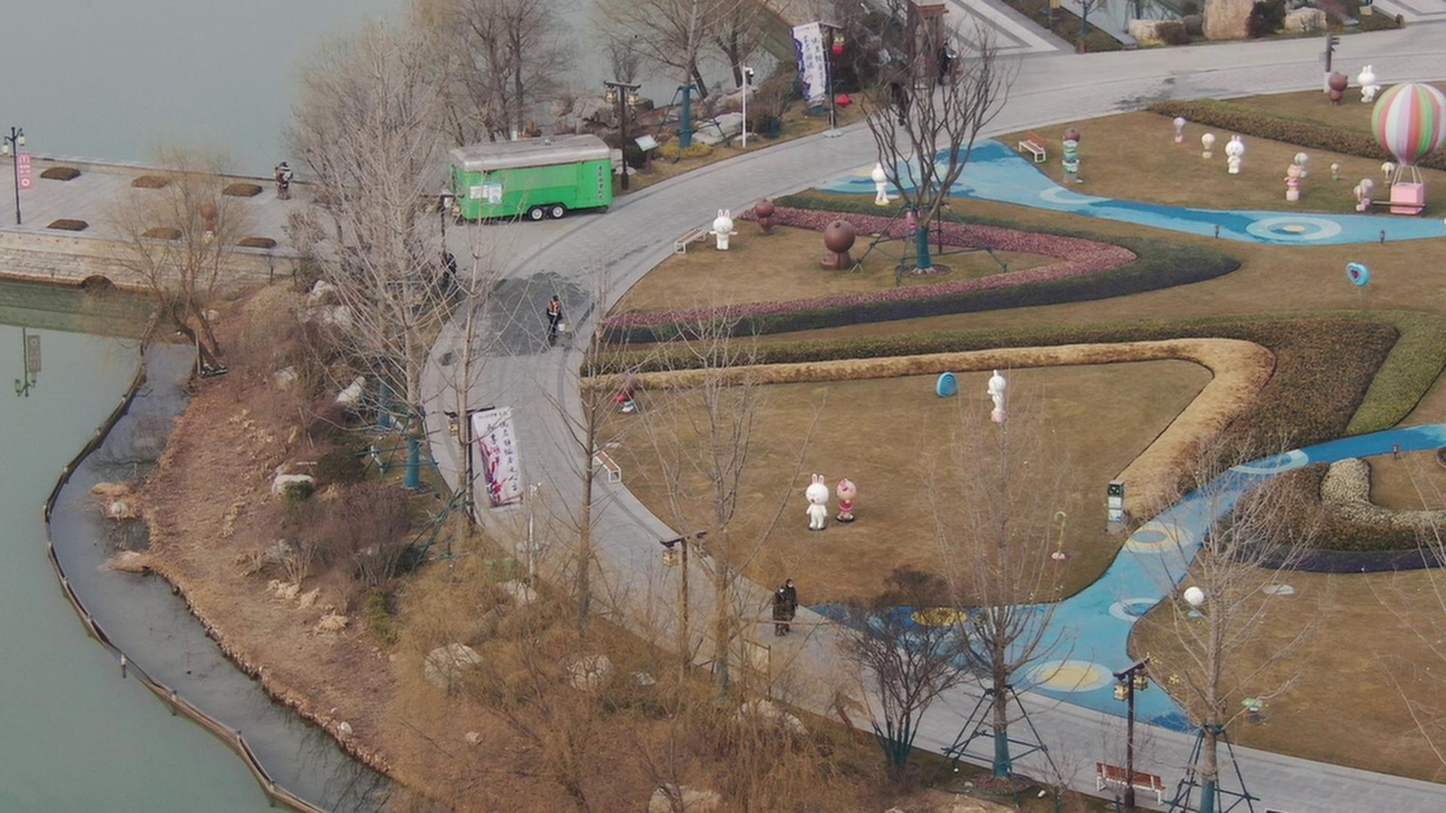class_2: (770, 574, 801, 647)
human: (432, 245, 456, 303), (538, 296, 564, 346), (889, 75, 907, 130)
